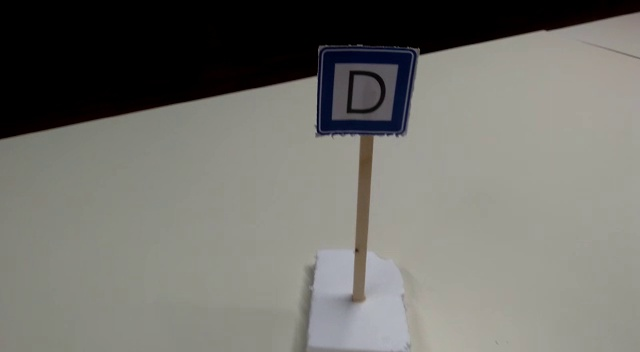durak: (313, 48, 422, 135)
